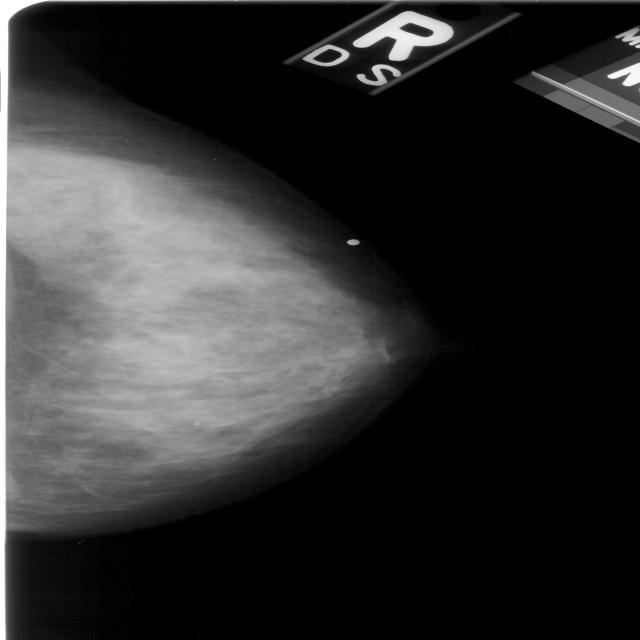normal: (0, 45, 430, 536)
